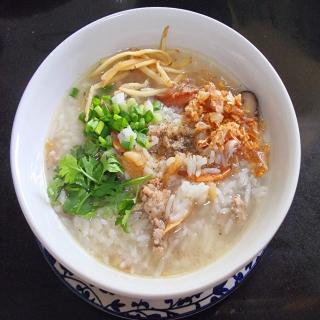boiled_rice: (20, 27, 287, 308)
carbs: (71, 214, 245, 278)
meat: (140, 180, 170, 252), (232, 194, 248, 226)
veg: (89, 43, 276, 182), (49, 144, 144, 230)
